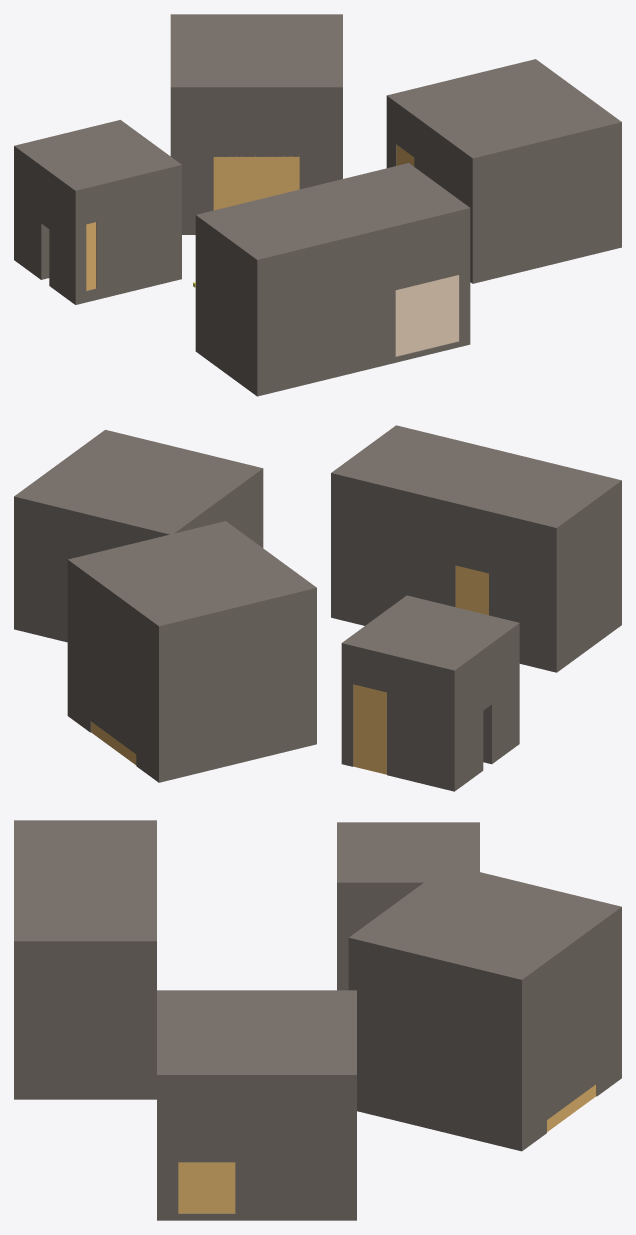
Rendered from courtyard-cluster.glb.
3 renders of one model, top to bottom at view 1: azimuth 30°, elevation 25°; view 2: azimuth 150°, elevation 25°; view 3: azimuth 270°, elevation 25°, orthographic. The views are drawn at different scales.
Visible parts, largest first — view 1: skp; view 2: skp; view 3: skp.
Boxes of the visible parts, x1,y1,x2,y2 form: skp: (14, 14, 621, 396); skp: (14, 425, 621, 791); skp: (14, 820, 621, 1220).
Bounding box in the file's own units: 13.41 × 4.04 × 12.97.
